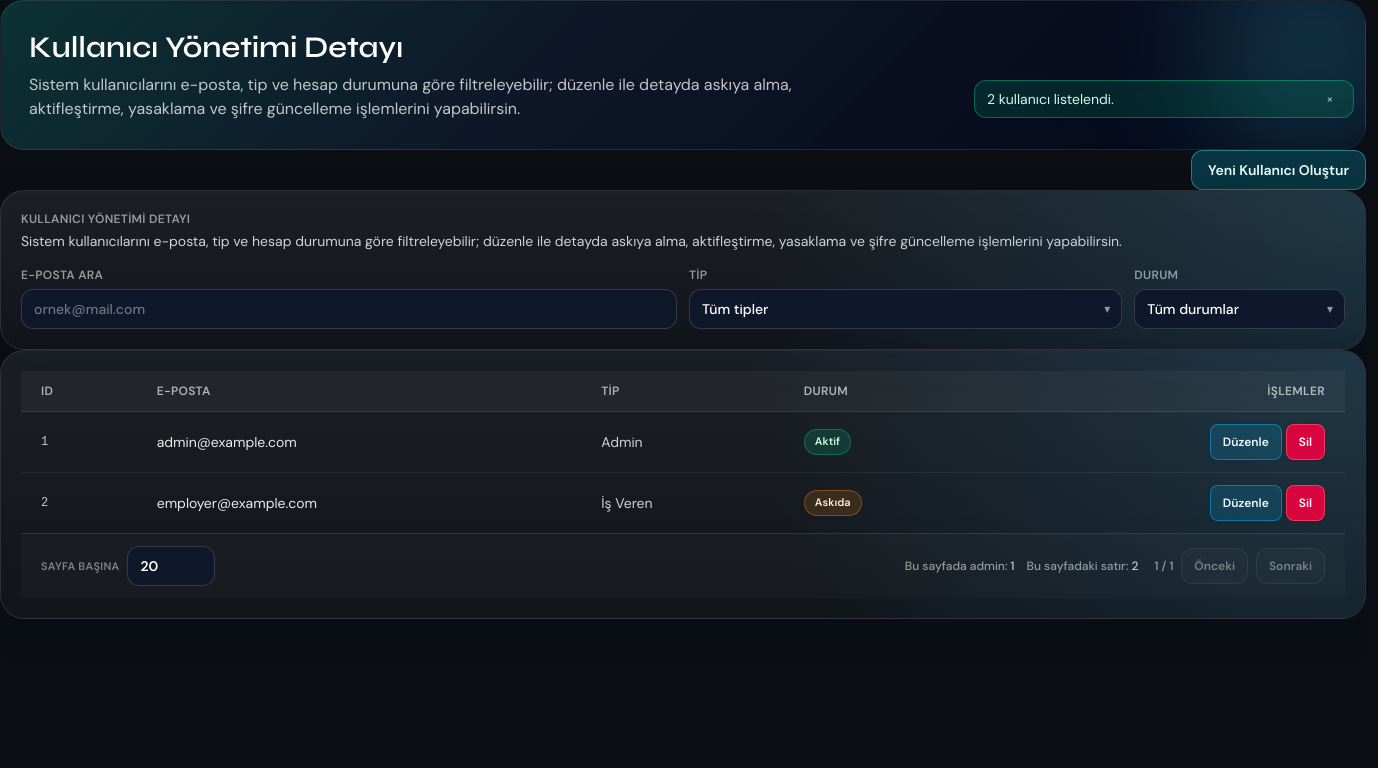
it: AdminUsersPage actions › navigates to user detail when edit is clicked
Expected: the text "admin@example.com" is shown, [137, 412, 581, 472]
Click the button "Düzenle" in the row of "admin@example.com". click: (1246, 442)
box: [1210, 424, 1282, 460]
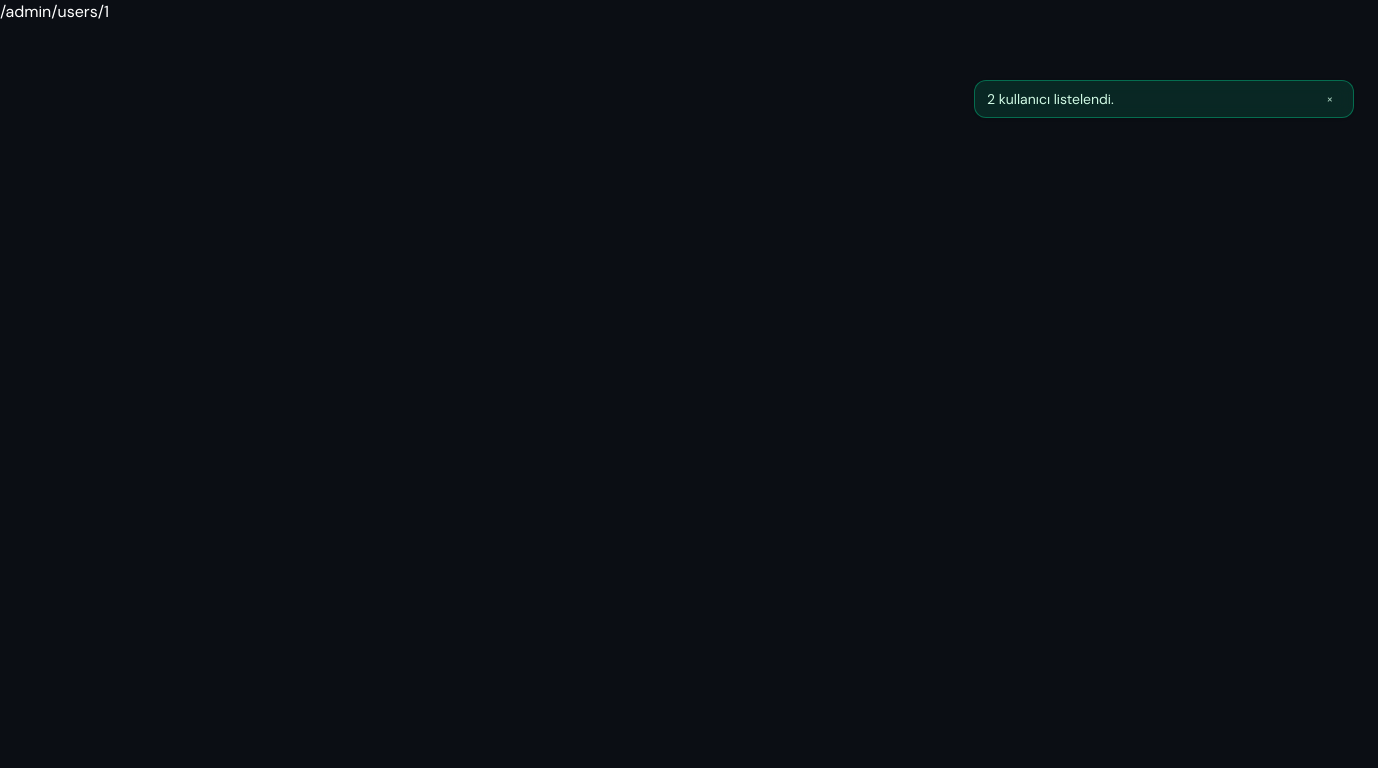
Result: the text with test id "location-pathname" reads "/admin/users/1" at [0, 1, 109, 22]
